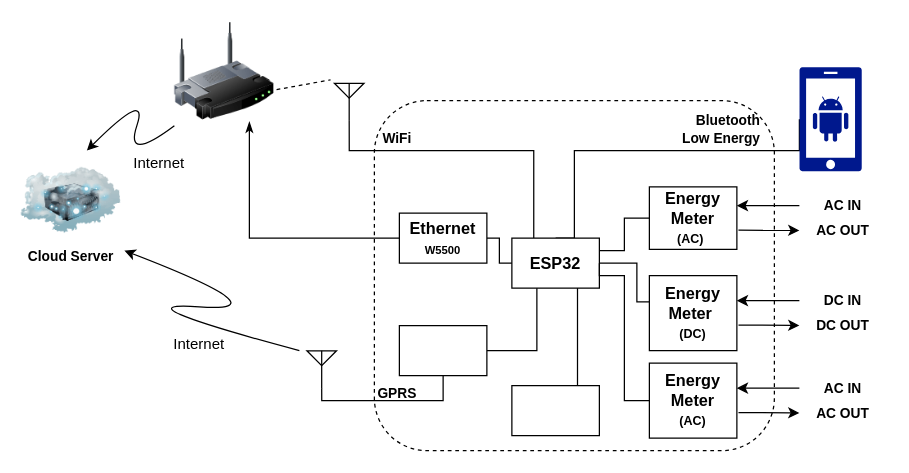
Image size: 909x473. Some labels were removed from this diagram. Here are the shapes that lost their labels. From the top down, the centre of each, then its label:
At pixel 442 350: "GSM SIM 900A".
At pixel 555 410: "EEPROM AT24C32".
